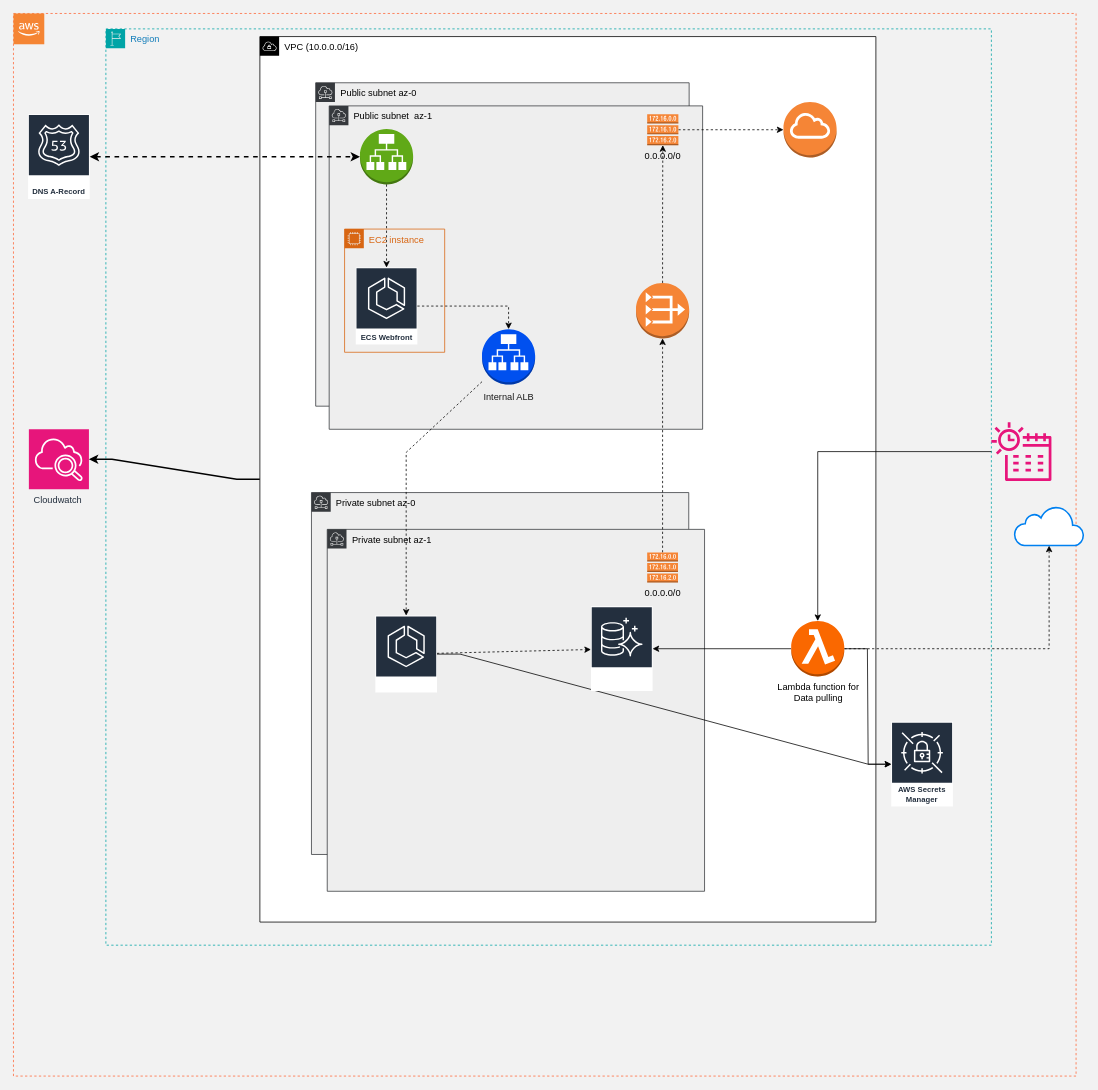
This 1098x1090 diagram has some shape labels left out. The shapes that lost their labels are listed below. From the top down, each one's centre as x and y in pixels, then its label:
At (x=810, y=129): "Internet gateway".
At (x=386, y=156): "External ALB".
At (x=662, y=310): "NAT Gateway".
At (x=1021, y=451): "Eventbridge".
At (x=1048, y=525): "Banxico API".
At (x=406, y=654): "ECS Backend".
At (x=621, y=648): "Amazon Aurora".
